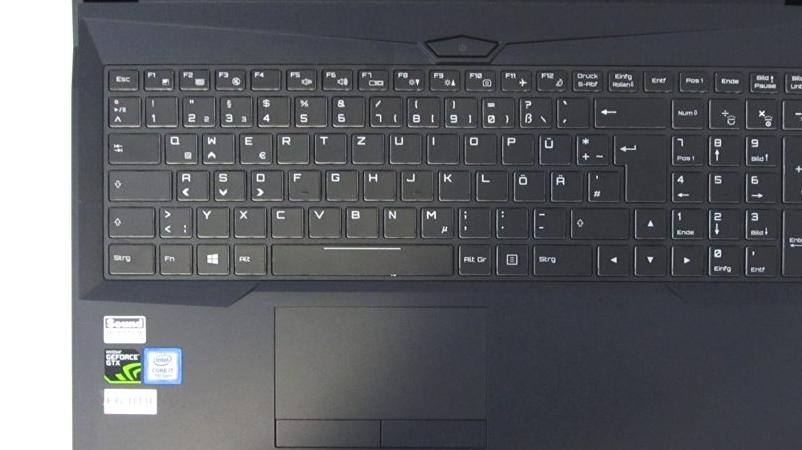0: (478, 94, 512, 126)
1: (142, 93, 175, 125)
2: (179, 93, 213, 125)
3: (216, 92, 250, 125)
4: (254, 93, 288, 125)
5: (291, 93, 325, 125)
6: (328, 92, 363, 125)
7: (366, 92, 400, 125)
8: (404, 93, 437, 126)
9: (441, 93, 475, 126)
a: (173, 166, 207, 199)
accent: (554, 94, 587, 127)
ae: (547, 167, 580, 200)
alt-left: (230, 240, 265, 273)
altgr-right: (455, 240, 490, 274)
b: (342, 203, 377, 236)
c: (267, 202, 302, 236)
caret: (104, 92, 138, 125)
comma: (455, 203, 489, 236)
d: (247, 166, 282, 199)
del: (591, 93, 665, 126)
e: (236, 129, 270, 162)
enter: (610, 129, 664, 201)
f: (285, 166, 318, 199)
g: (322, 166, 356, 199)
h: (360, 167, 394, 198)
hash: (584, 166, 618, 200)
i: (423, 129, 457, 162)
j: (398, 166, 431, 199)
k: (435, 166, 469, 199)
keyboard: (92, 58, 802, 287)
l: (473, 166, 506, 199)
less: (156, 202, 190, 236)
m: (417, 203, 451, 237)
minus: (530, 204, 564, 236)
n: (380, 203, 415, 236)
o: (461, 130, 494, 162)
oe: (510, 167, 543, 199)
p: (498, 129, 532, 162)
plus: (573, 130, 606, 163)
point: (492, 204, 527, 236)
q: (161, 129, 196, 163)
r: (273, 128, 307, 162)
s: (210, 166, 243, 199)
shift-left: (103, 202, 152, 235)
shift-lock: (105, 166, 169, 199)
shift-right: (567, 203, 627, 237)
space: (269, 240, 451, 275)
ss: (515, 93, 549, 126)
strg-left: (102, 239, 153, 273)
strg-right: (529, 240, 591, 274)
t: (311, 129, 345, 161)
tab: (105, 128, 157, 162)
u: (386, 129, 419, 162)
ue: (535, 130, 569, 163)
v: (305, 203, 339, 236)
w: (198, 128, 233, 162)
x: (231, 203, 265, 236)
y: (194, 203, 228, 236)
z: (348, 129, 382, 162)
